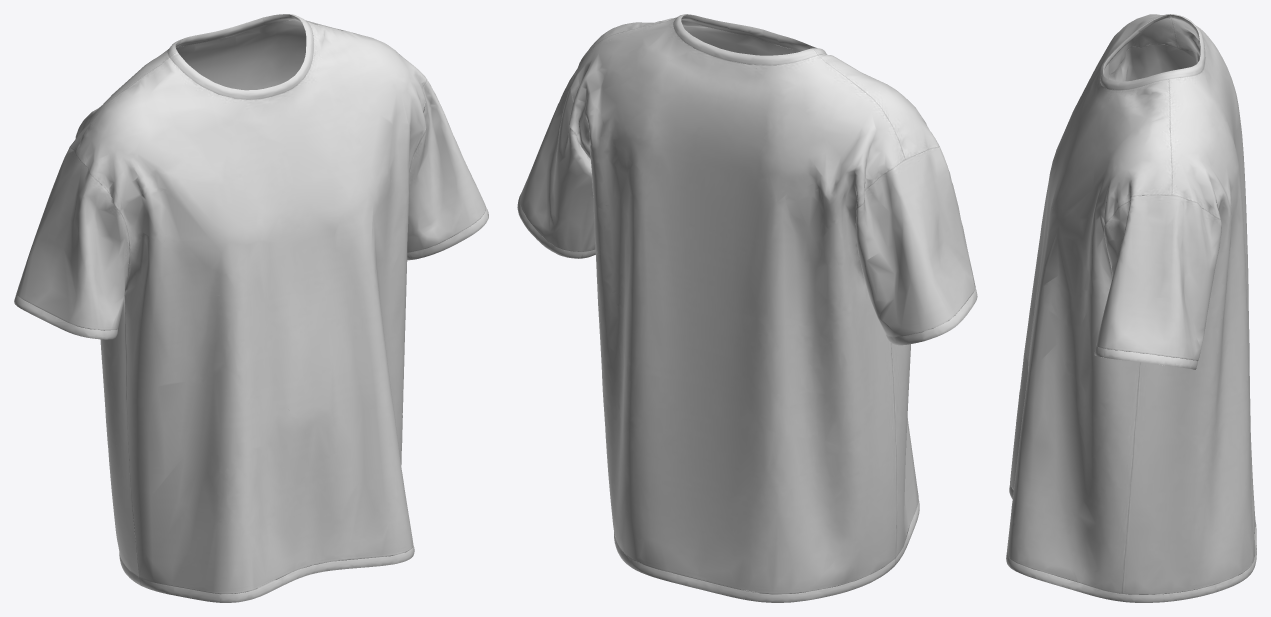
Rendered from shirt.glb.
3 renders of one model, left to right at view 1: azimuth 30°, elevation 25°; view 2: azimuth 150°, elevation 25°; view 3: azimuth 270°, elevation 25°, orthographic. The views are drawn at different scales.
Visible parts, largest first — view 1: Object_4, Object_3, Object_5, Object_2; view 2: Object_4, Object_5, Object_3, Object_2; view 3: Object_4, Object_3, Object_5, Object_2.
Boxes of the visible parts, <box> form: Object_4: <box>16,20,426,594</box>; Object_3: <box>75,14,488,570</box>; Object_5: <box>85,21,329,558</box>; Object_2: <box>14,207,488,602</box>; Object_4: <box>569,18,975,594</box>; Object_5: <box>574,22,896,583</box>; Object_3: <box>518,14,939,594</box>; Object_2: <box>517,194,977,602</box>; Object_4: <box>1007,14,1255,594</box>; Object_3: <box>1010,14,1255,594</box>; Object_5: <box>1123,18,1254,593</box>; Object_2: <box>1006,346,1256,602</box>.
Size of the model in its own units: 0.637 by 0.7108 by 0.3212.
1 material, 1 textured.
